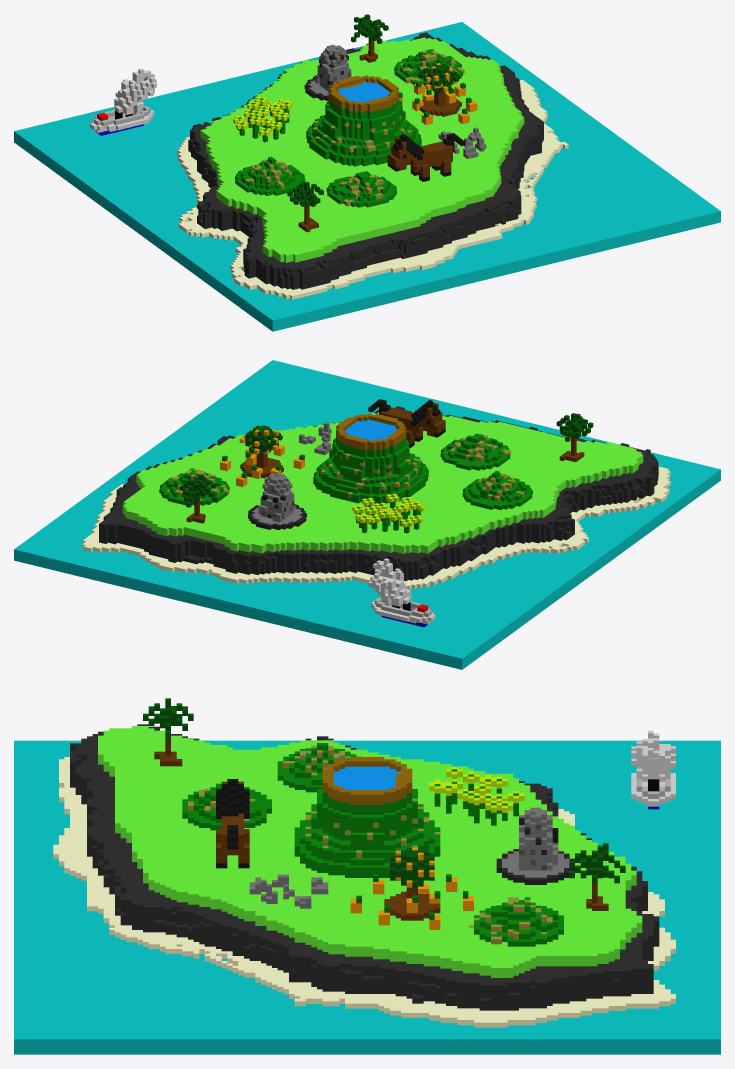
Rendered from jeju.glb.
3 renders of one model, top to bottom at view 1: azimuth 30°, elevation 25°; view 2: azimuth 150°, elevation 25°; view 3: azimuth 270°, elevation 25°, orthographic. The views are drawn at different scales.
Parts seen in each view (by area): view 1: jejuisland.002; view 2: jejuisland.002; view 3: jejuisland.002.
Part boxes in pixels (x1,y1,x2,y2): jejuisland.002: [14, 14, 720, 331]; jejuisland.002: [14, 360, 720, 669]; jejuisland.002: [14, 698, 720, 1054].
Size of the model in its own units: 12.6 by 2.5 by 12.6.
1 material, 1 textured.
